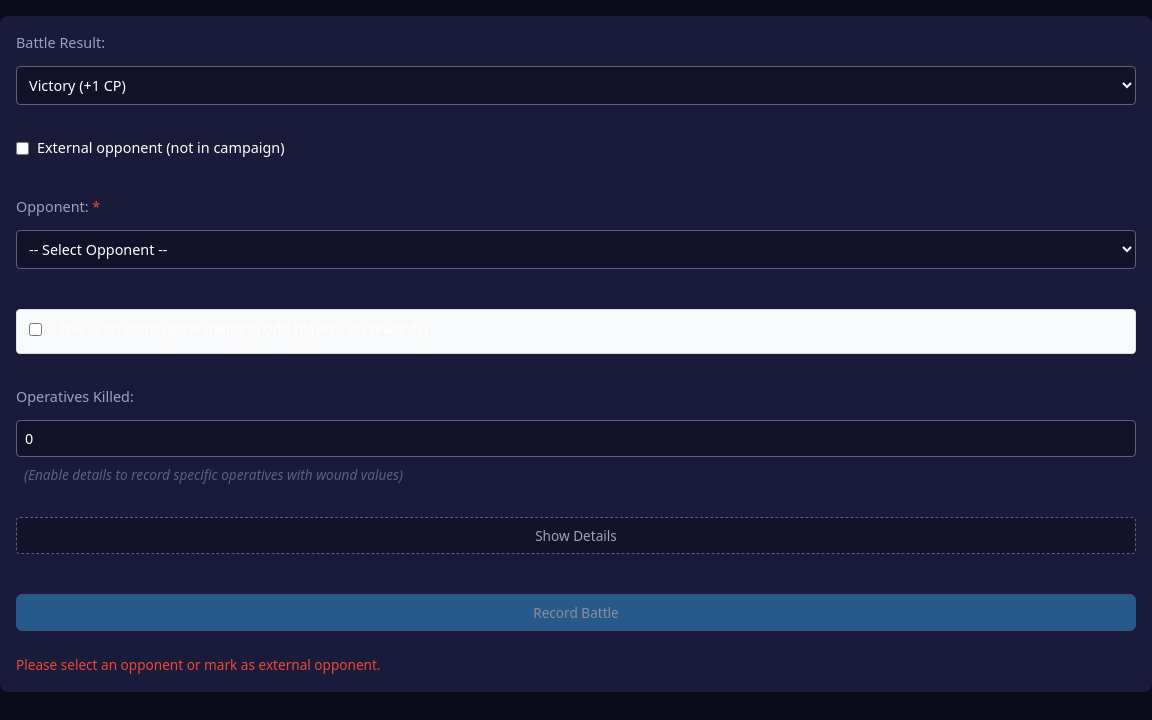
Test case: BattleForm › Detailed Mode Toggle › should toggle to detailed mode when clicked
Click the button "Show Details" at (576, 536), box [16, 517, 1136, 554]
(page scrolled)
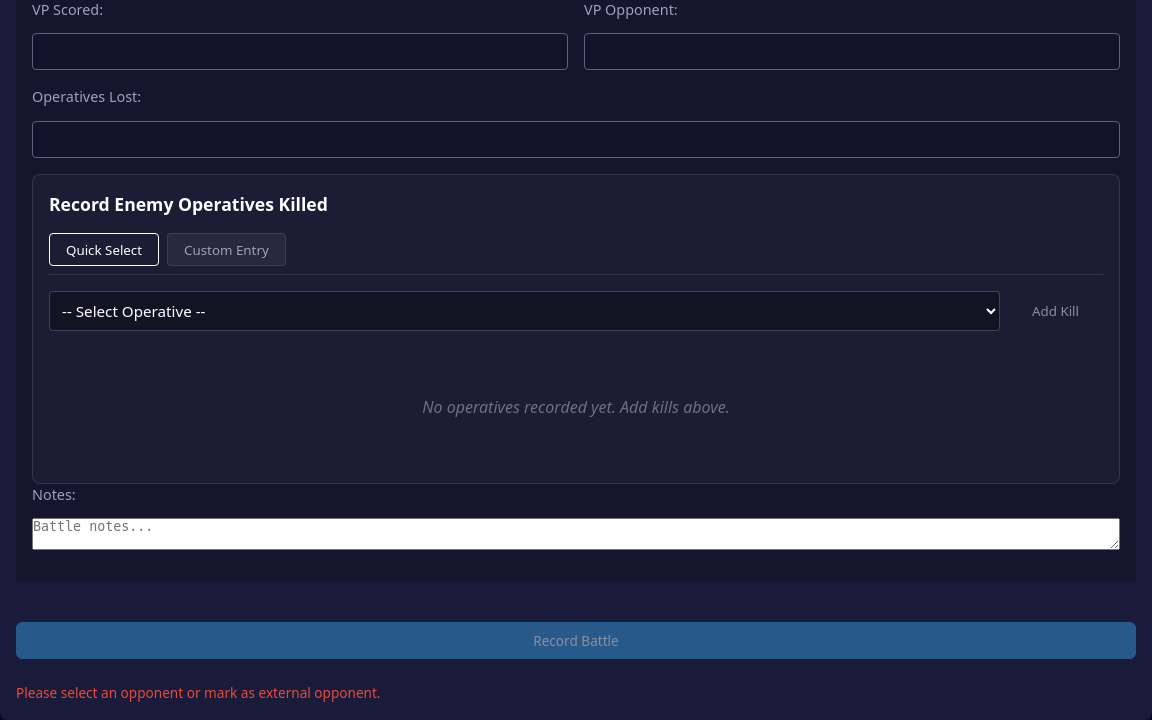
Expected: the number field labelled "VP Scored:" is shown, [32, 33, 568, 70]
Expected: the number field labelled "VP Opponent:" is shown, [584, 33, 1120, 70]
Expected: the number field labelled "Operatives Lost:" is shown, [32, 121, 1120, 158]
